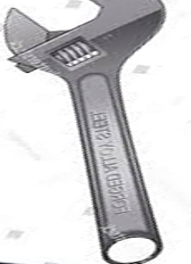Wrench: (4, 2, 179, 264)
